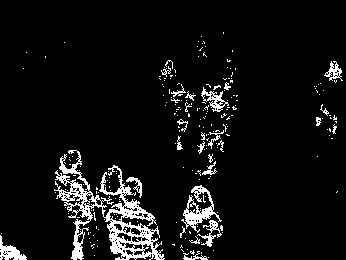person: (53, 148, 98, 260), (110, 178, 161, 260), (180, 184, 222, 257), (97, 165, 120, 254), (203, 87, 225, 176), (169, 83, 191, 152)
